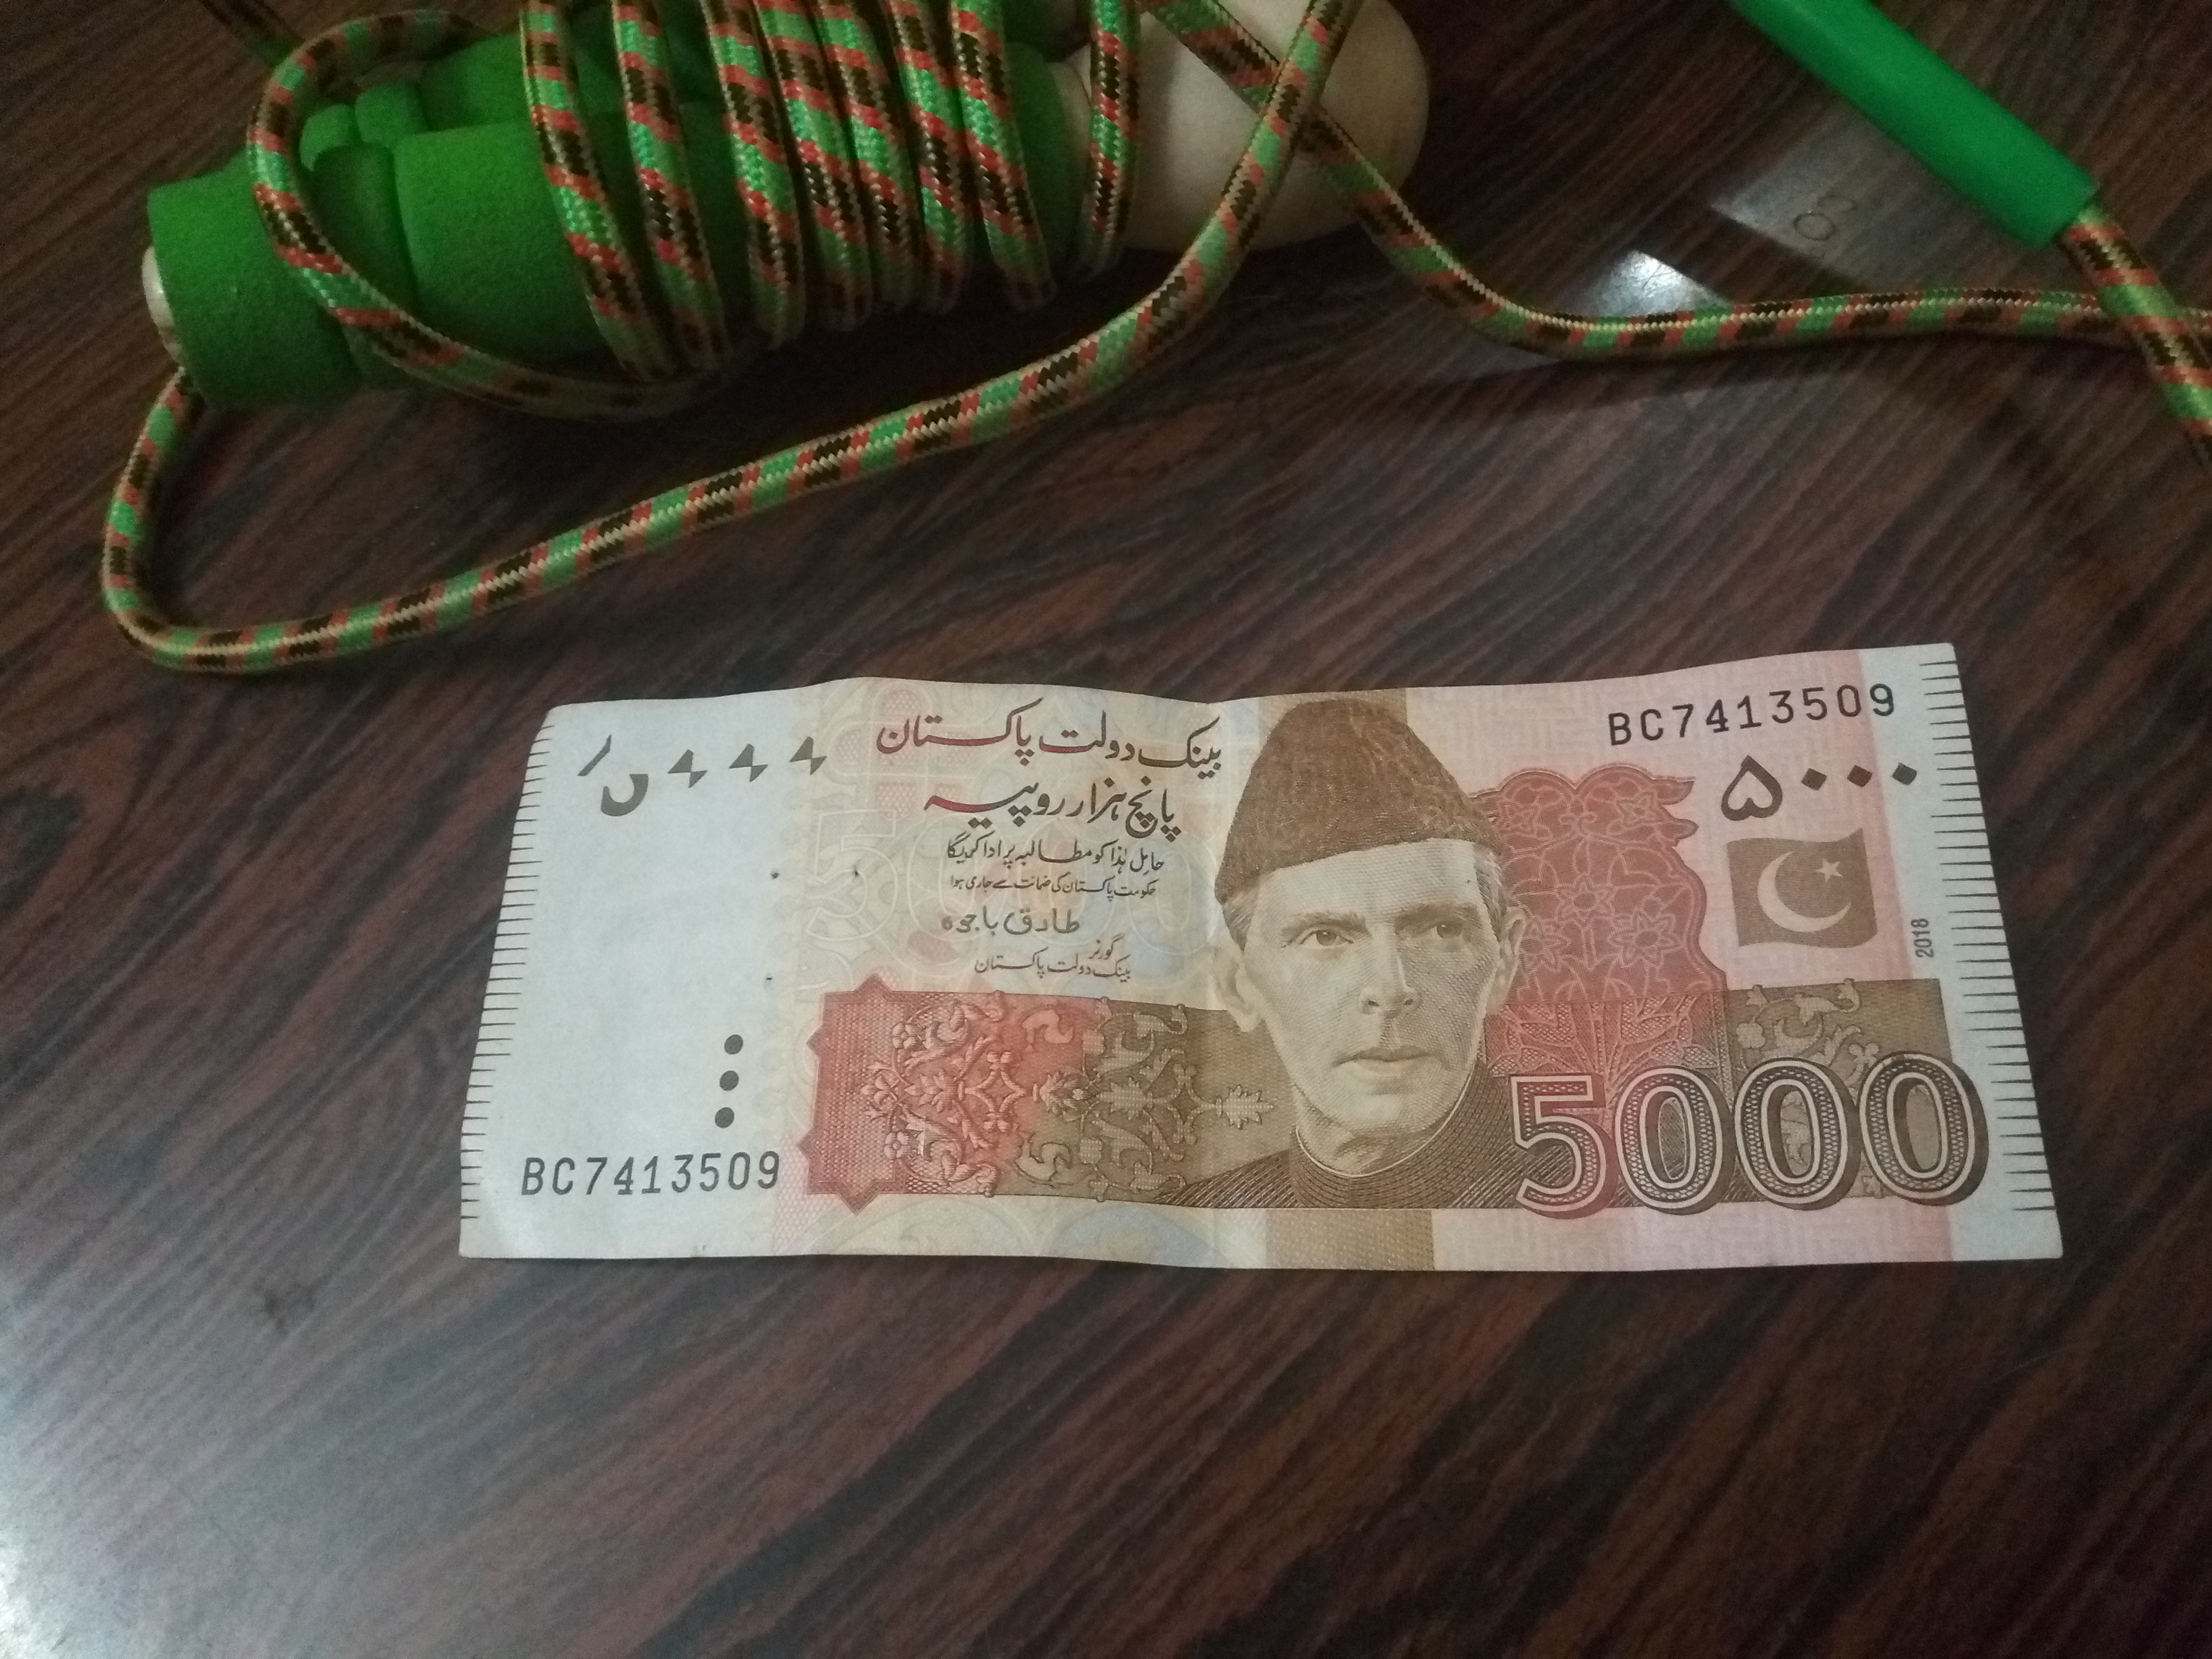5000 rupee: (401, 636, 2090, 1305)
